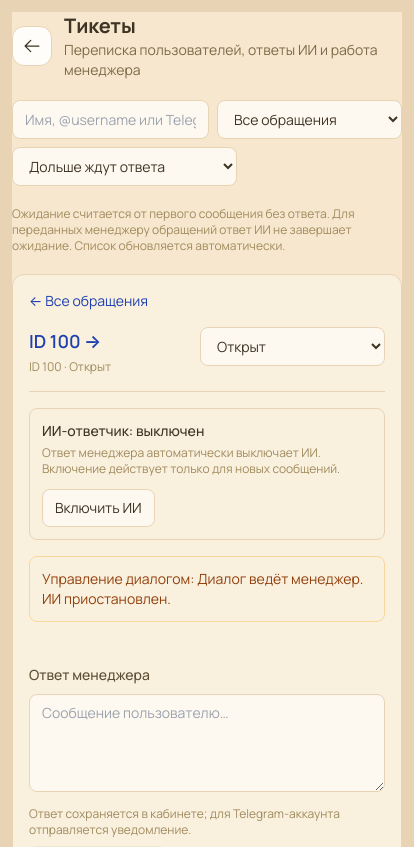
ArcVPN operator views › lets a manager explicitly resume AI for future messages without sending a reply
Click the button "Включить ИИ" at [98, 508], box top-left (42, 489), bottom-right (155, 527)
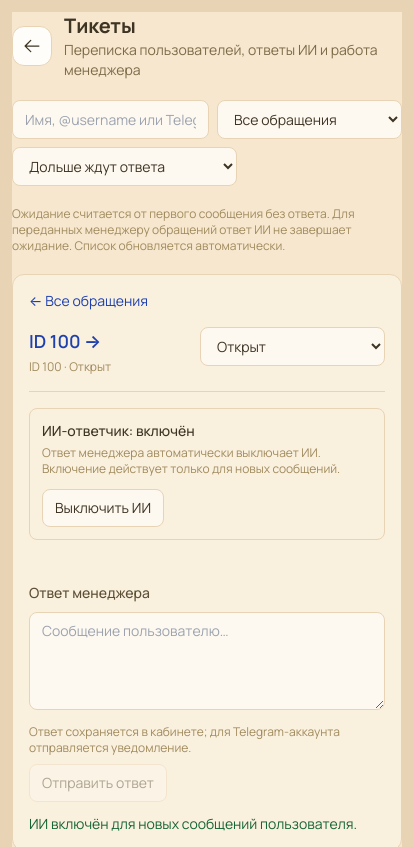
Expected: the text "ИИ включён для новых сообщений пользователя." is shown, top-left (29, 814), bottom-right (385, 834)
Expected: the button "Выключить ИИ" is shown, top-left (42, 489), bottom-right (164, 527)
